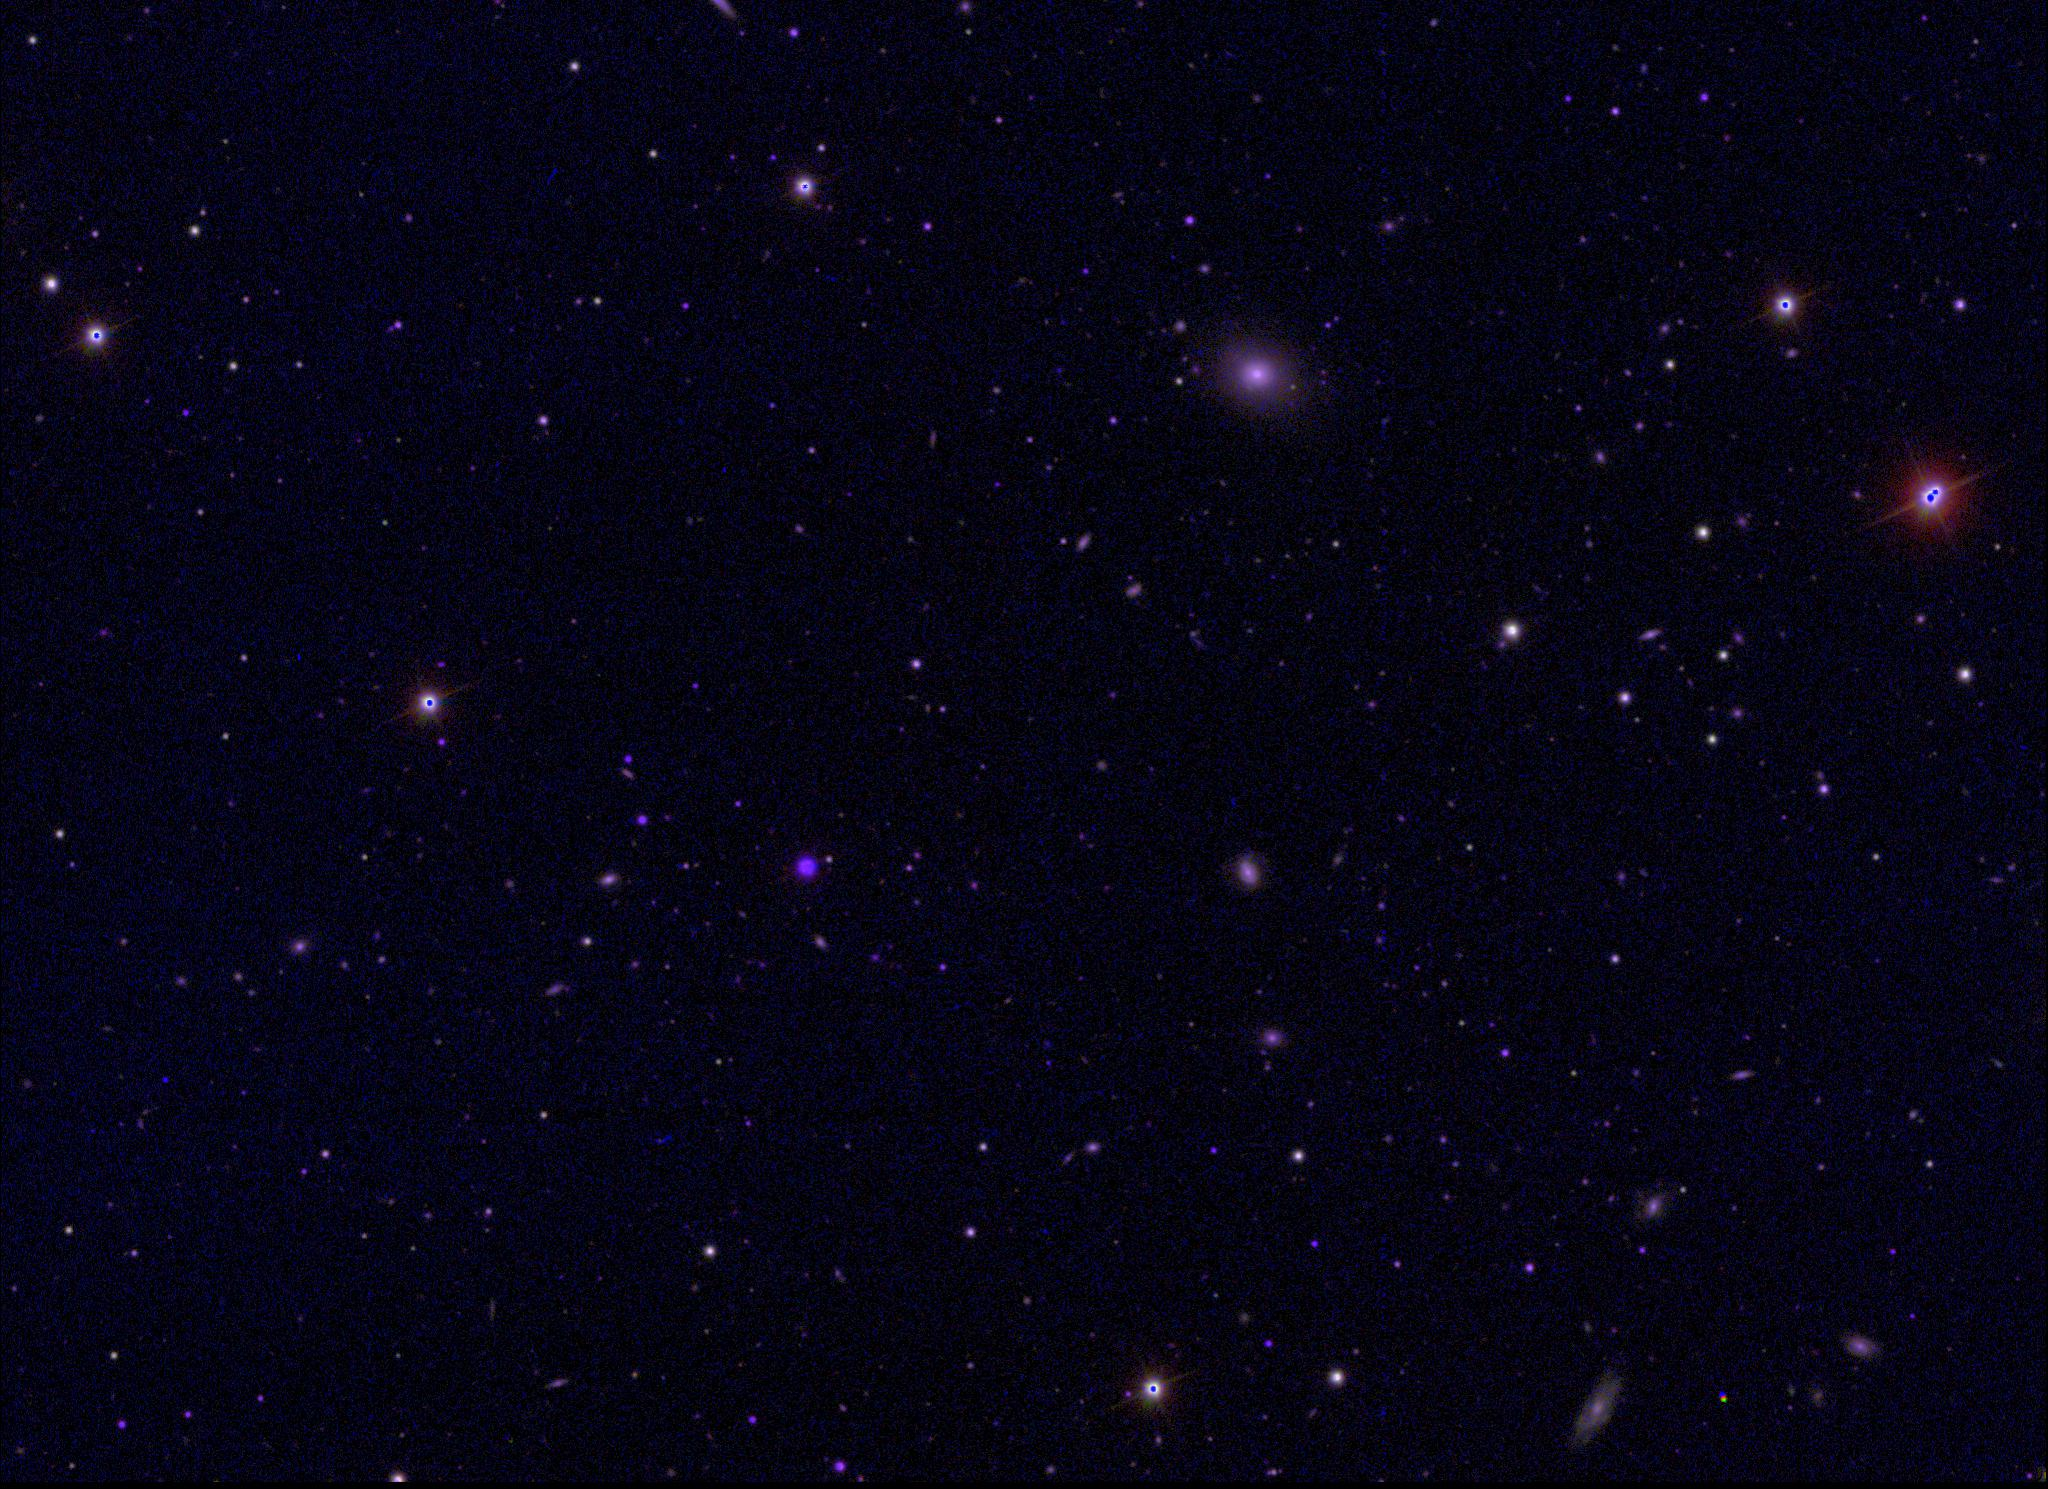L: (159, 1074, 173, 1088)
